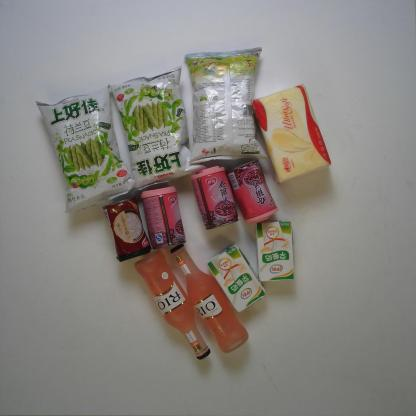Alcohol: (169, 242, 250, 355), (134, 247, 212, 361)
Canned Food: (225, 157, 280, 226), (188, 164, 241, 232), (101, 195, 153, 264), (139, 184, 187, 250)
Milk: (205, 242, 267, 314), (254, 219, 296, 283)
Puffed Food: (34, 82, 138, 215), (107, 64, 208, 193), (183, 46, 269, 165)
Tissue: (250, 81, 334, 186)
